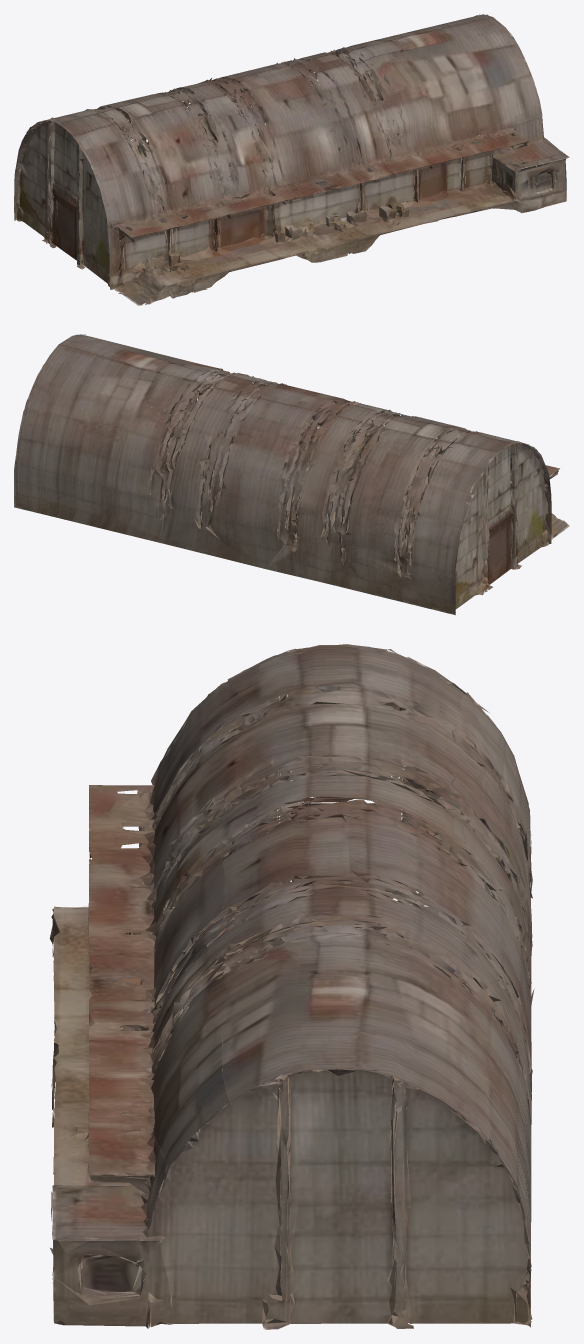
The model's file is building_warehouse.glb.
3 renders of one model, top to bottom at view 1: azimuth 30°, elevation 25°; view 2: azimuth 150°, elevation 25°; view 3: azimuth 270°, elevation 25°, orthographic. The views are drawn at different scales.
Visible parts, largest first — view 1: building_warehouse; view 2: building_warehouse; view 3: building_warehouse.
Boxes of the visible parts, x1,y1,x2,y2 form: building_warehouse: [14, 14, 569, 305]; building_warehouse: [14, 334, 569, 615]; building_warehouse: [49, 644, 534, 1329].
Bounding box in the file's own units: 49.97 × 14.46 × 23.93.
1 material, 1 textured.
